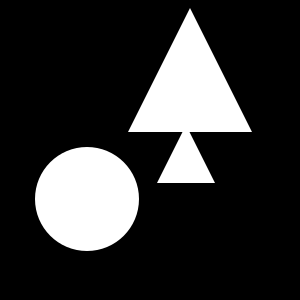rectangle: (35, 147, 139, 251)
triangle: (128, 8, 252, 132), (157, 125, 215, 183)
